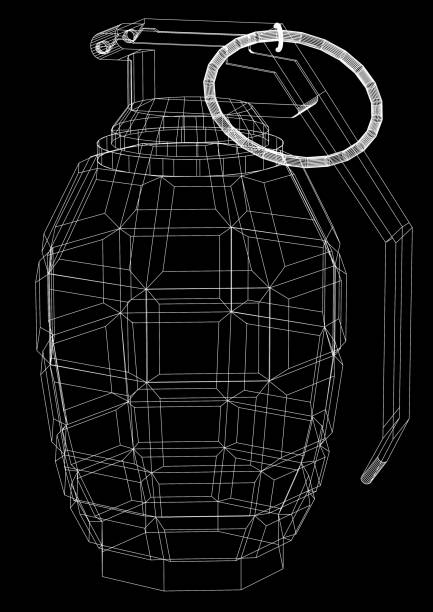e1: (34, 15, 411, 590)
